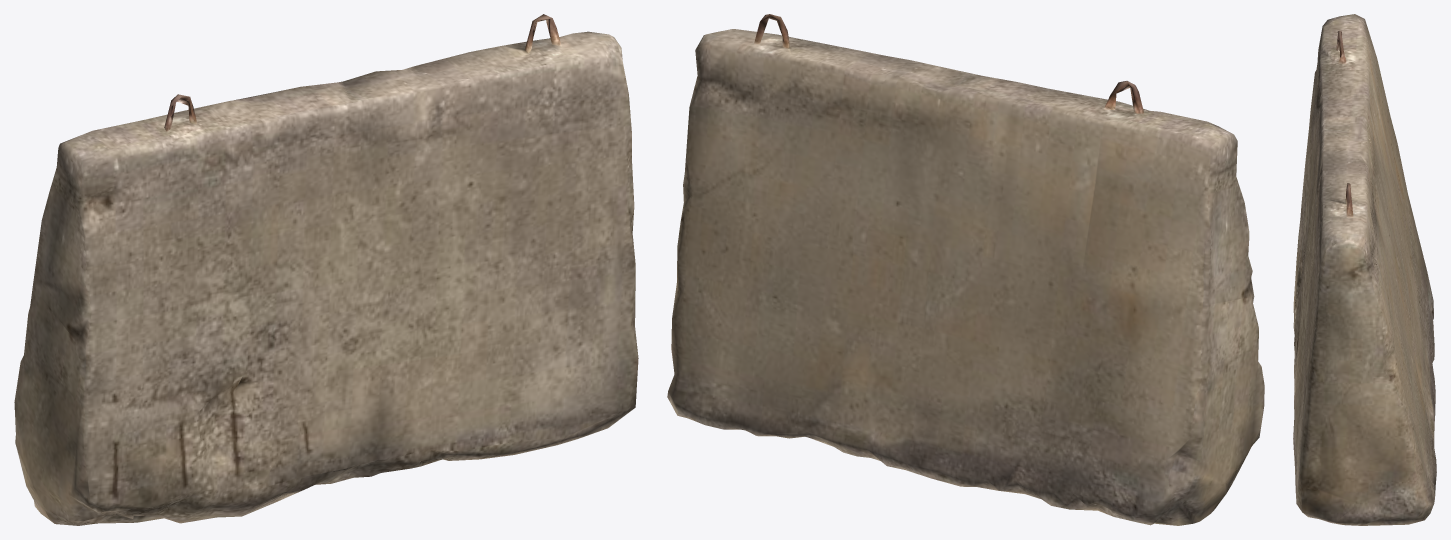
File: concrete_road_barrier_02.glb
3 views of the same model, side by side, from view 1: azimuth 30°, elevation 25°; view 2: azimuth 150°, elevation 25°; view 3: azimuth 270°, elevation 25° (orthographic). The views are drawn at different scales.
Parts seen in each view (by area): view 1: concrete_road_barrier_02; view 2: concrete_road_barrier_02; view 3: concrete_road_barrier_02.
Boxes of the visible parts, x1=… form: concrete_road_barrier_02: x1=14, y1=14, x2=638, y2=525; concrete_road_barrier_02: x1=667, y1=14, x2=1264, y2=525; concrete_road_barrier_02: x1=1293, y1=14, x2=1436, y2=525.
Bounding box in the file's own units: 1.56 × 1.11 × 0.437.
1 material, 1 textured.
